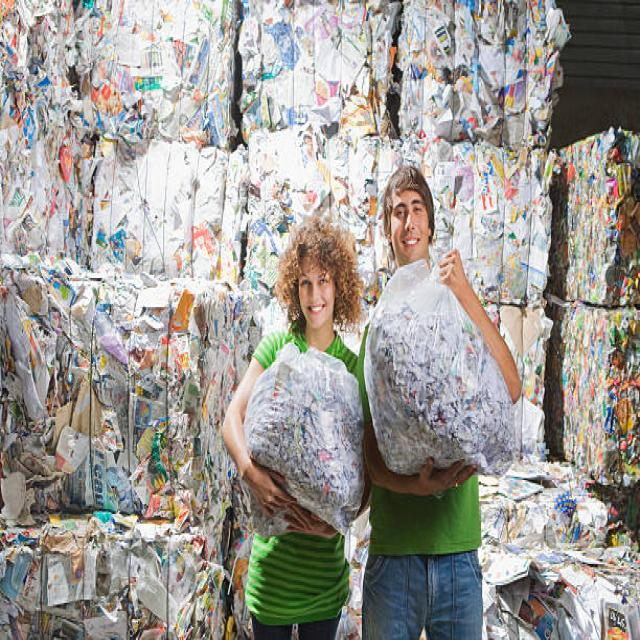trash: (11, 13, 564, 170), (6, 298, 204, 620), (369, 258, 497, 478), (27, 182, 276, 282), (249, 348, 368, 524), (490, 474, 618, 635)
